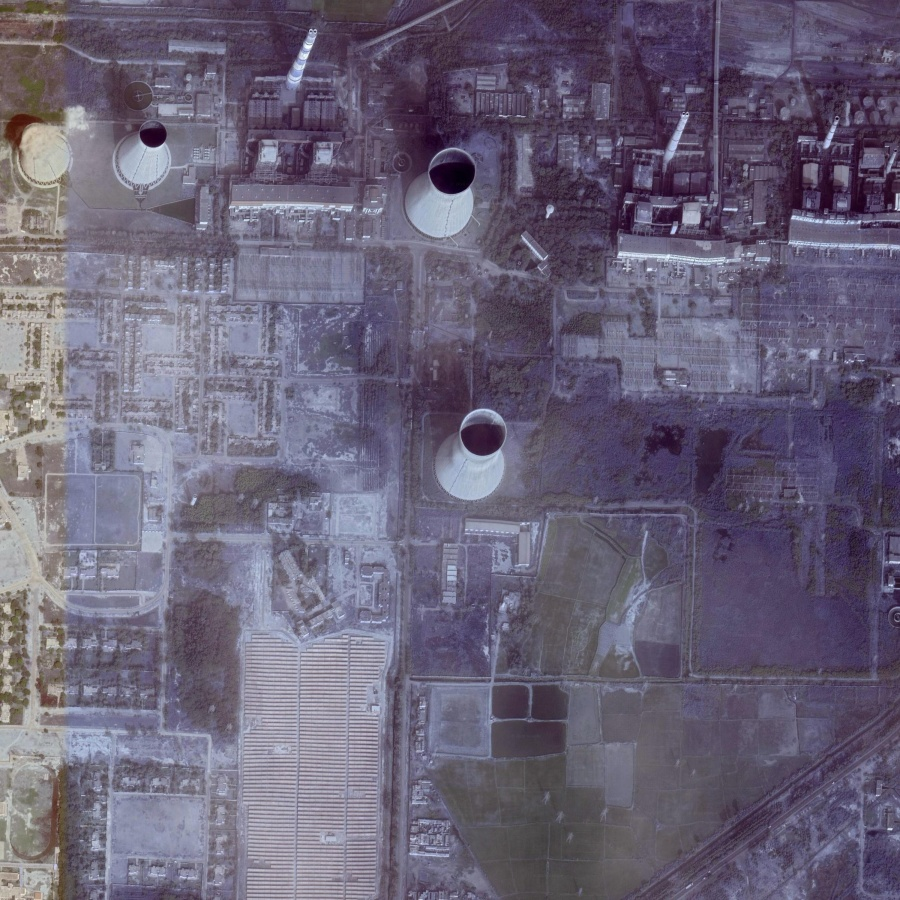PowerPlant: (415, 396, 659, 670)
